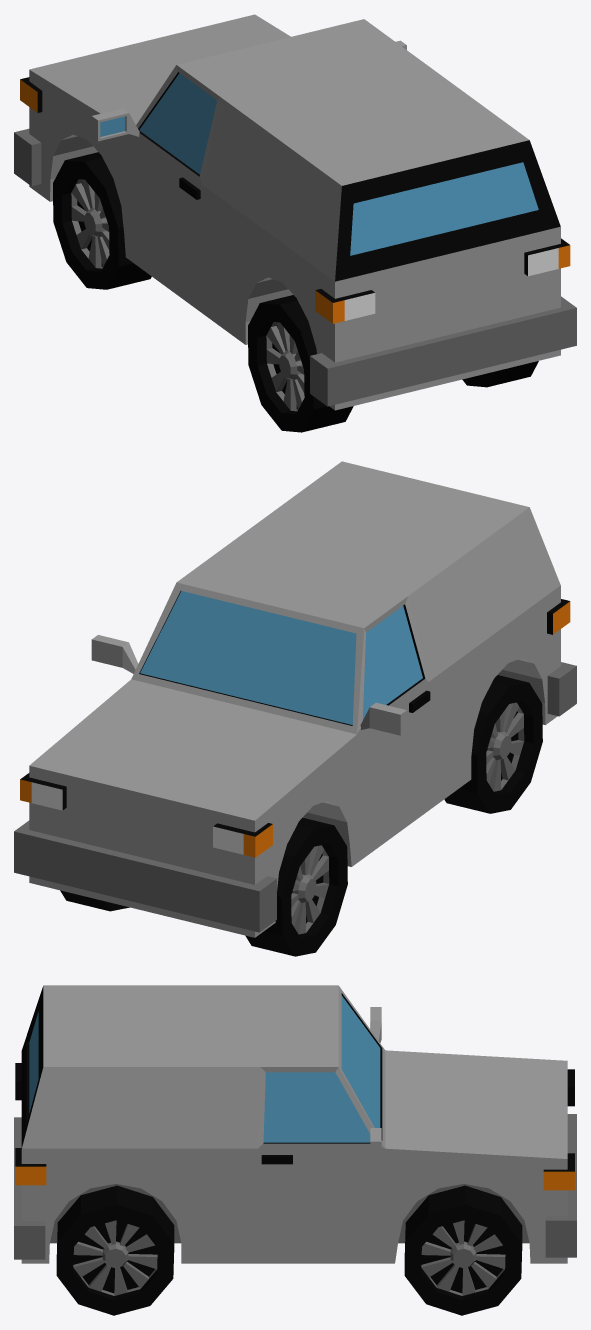
The model's file is suv.fbx.
3 views of the same model, one above another, from view 1: azimuth 30°, elevation 25°; view 2: azimuth 150°, elevation 25°; view 3: azimuth 270°, elevation 25° (orthographic). The views are drawn at different scales.
Parts seen in each view (by area): view 1: car001.008; view 2: car001.008; view 3: car001.008.
Part boxes in pixels (left/top/right/bottom): car001.008: left=14, top=14, right=576, bottom=432; car001.008: left=14, top=461, right=576, bottom=956; car001.008: left=14, top=985, right=576, bottom=1315.
Size of the model in its own units: 119 by 99.19 by 211.
